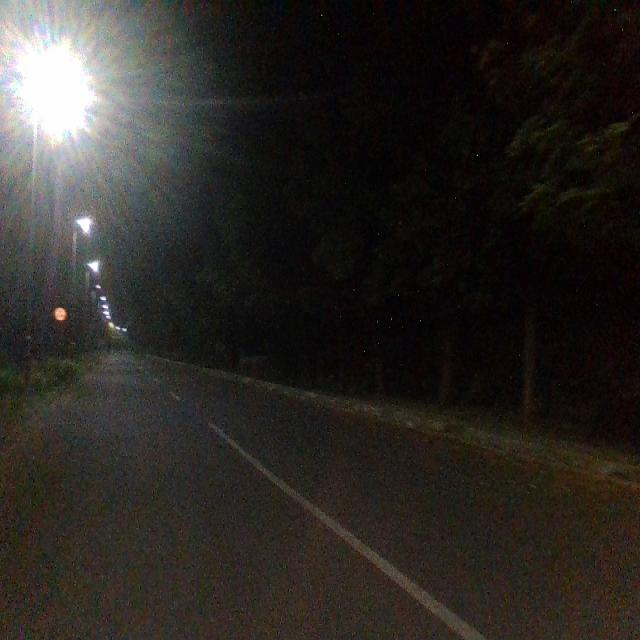lane: (1, 363, 465, 640)
